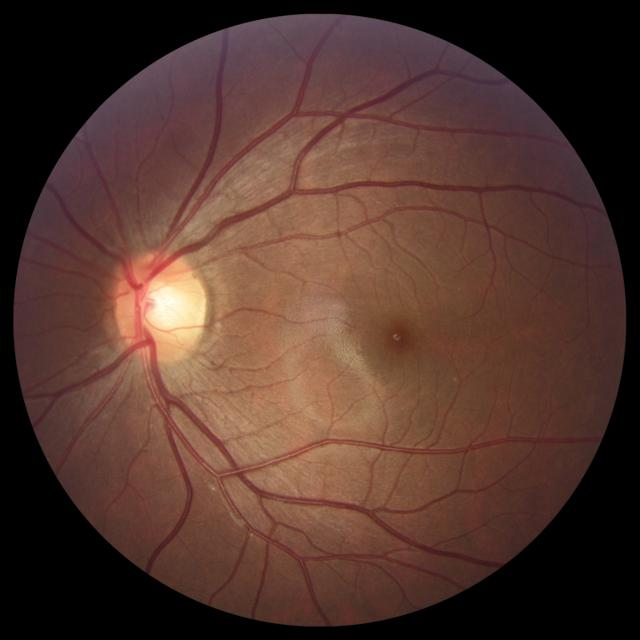OC: (138, 279, 186, 328)
OD: (115, 252, 208, 362)
